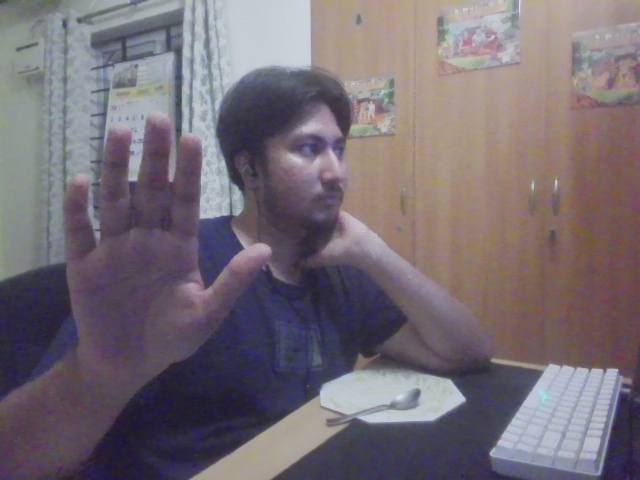hello: (56, 108, 275, 383)
